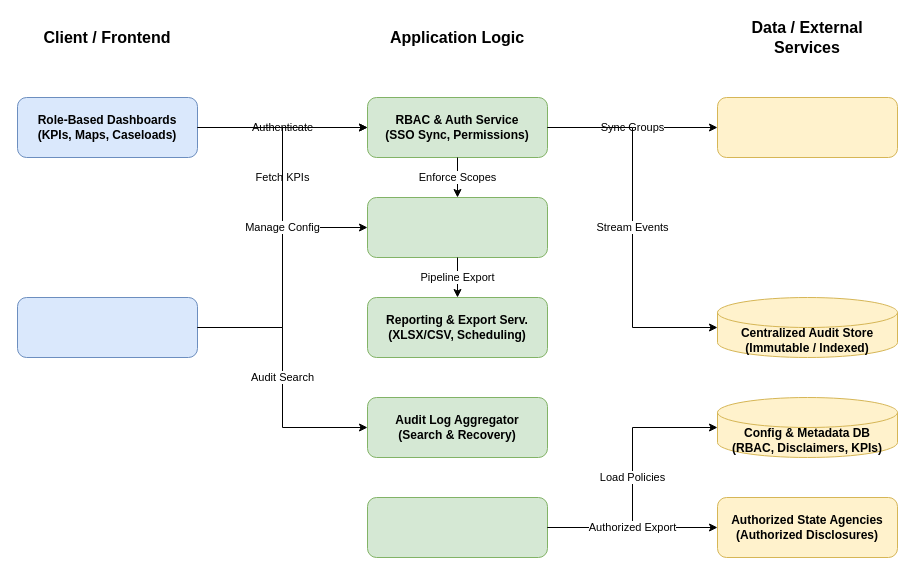
The diagram is 915 pixels wide and 575 high, and some of its shapes have lost their labels. The shapes that lost their labels are listed below. From the top down, each one's centre as x and y in pixels, then its label:
At point 807,127: "County SSO / LDAP (Planning, Finance, IT)".
At point 457,227: "Ad-Hoc Query Engine (Filters, Joins, Geo-Sort)".
At point 107,327: "Admin / Audit Console (RBAC, Rules, Disclaimers)".
At point 457,527: "Data Sharing & Masking (Inter-Dept Policies)".
